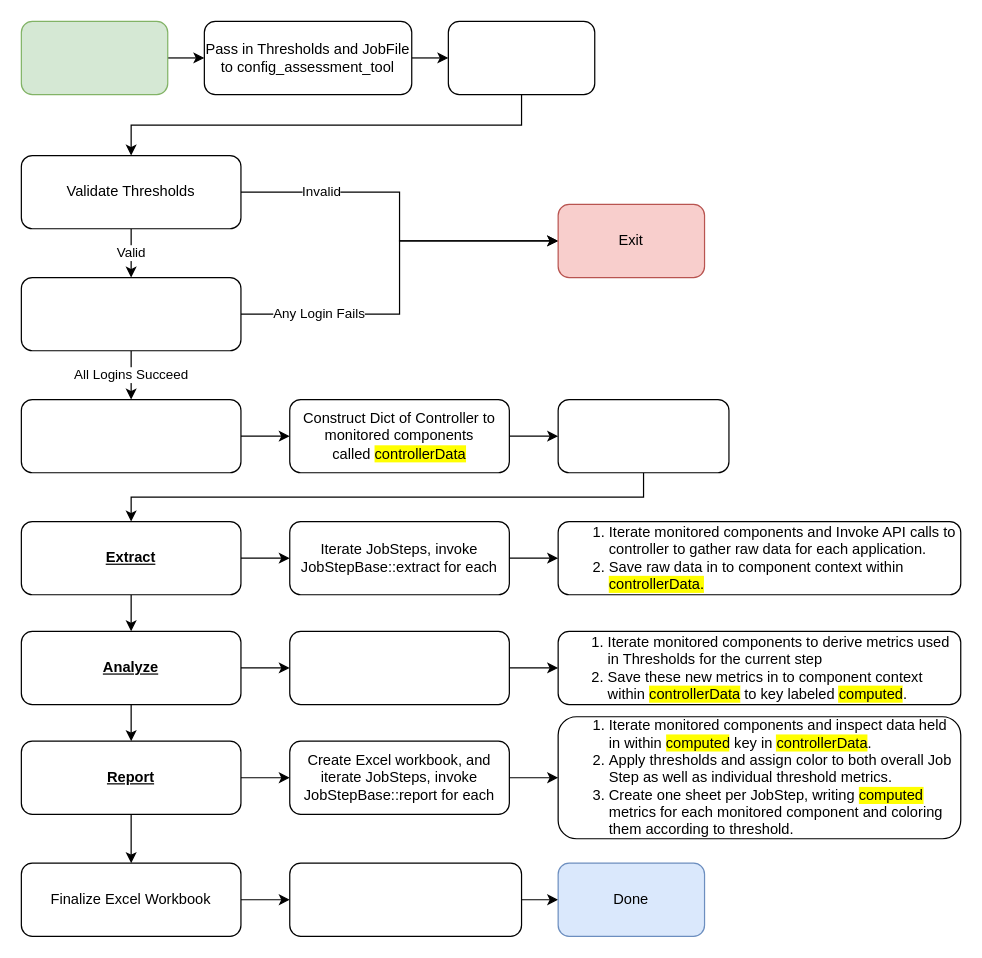
Some shapes in this 982 by 958 pixel diagram are drawn without their labels. The centre of each missing label's shape, as x and y in pixels:
Begin Processing: (x=130, y=435)
Initialize Controller Connections: (x=130, y=313)
Initialize JobSteps to be used in analysis: (x=643, y=435)
Instantiate and run an Engine instance: (x=521, y=57)
Iterate JobSteps, invoke JobStepBase::analyze for each: (x=399, y=667)
Start: (x=94, y=57)
Write the overall threshold compliance to the Analysis sheet for each Job Step: (x=405, y=899)
